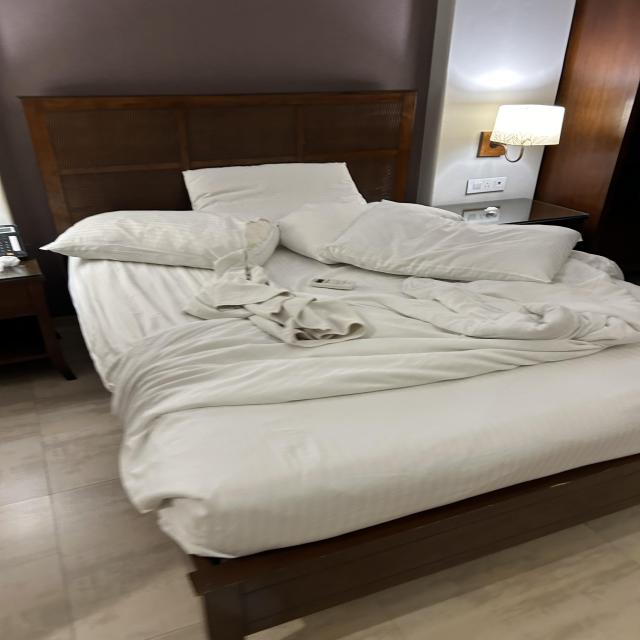mess: (61, 200, 640, 520)
